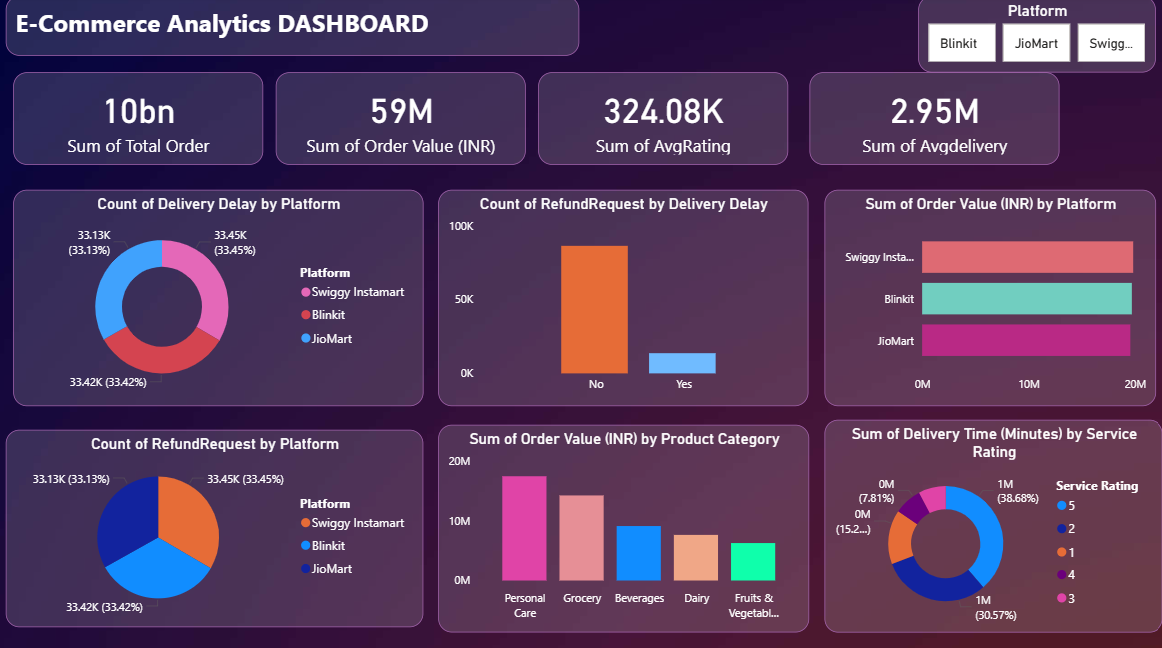

The dashboard page shown, as its layout file describes it:
{"tool":"powerbi","page":{"name":"Page 1","canvas":[1280,720],"ordinal":0},"visuals":[{"type":"textbox","box":[9.6,0,629.8,65.9],"z":0},{"type":"barChart","fields":{"Y":["Sum(Ecommerce_Delivery_Analytics_New.Order Value (INR))"],"Category":["Ecommerce_Delivery_Analytics_New.Platform"]},"box":[908.4,212.7,363.6,237.4],"z":1000},{"type":"donutChart","fields":{"Category":["Ecommerce_Delivery_Analytics_New.Service Rating"],"Y":["Sum(Ecommerce_Delivery_Analytics_New.Delivery Time (Minutes))"]},"box":[908.4,465.2,371.9,233.3],"z":2000},{"type":"columnChart","fields":{"Y":["CountNonNull(Ecommerce_Delivery_Analytics_New.RefundCount)"],"Category":["Ecommerce_Delivery_Analytics_New.Delivery Delay"]},"box":[484.4,212.7,406.2,237.4],"z":3000},{"type":"columnChart","fields":{"Category":["Ecommerce_Delivery_Analytics_New.Product Category"],"Y":["Sum(Ecommerce_Delivery_Analytics_New.Order Value (INR))"]},"box":[484.4,470.7,407.5,227.8],"z":4000},{"type":"pieChart","fields":{"Category":["Ecommerce_Delivery_Analytics_New.Platform"],"Y":["CountNonNull(Ecommerce_Delivery_Analytics_New.RefundRequest)"]},"box":[9.6,476.2,458.3,216.8],"z":5000},{"type":"donutChart","fields":{"Category":["Ecommerce_Delivery_Analytics_New.Platform"],"Y":["CountNonNull(Ecommerce_Delivery_Analytics_New.Delivery Delay)"]},"box":[17.8,212.7,450.1,237.4],"z":6000},{"type":"card","fields":{"Values":["Sum(Ecommerce_Delivery_Analytics_New.TO)"]},"box":[17.8,83.7,274.4,101.5],"z":7000},{"type":"card","fields":{"Values":["Sum(Ecommerce_Delivery_Analytics_New.Order Value (INR))"]},"box":[306,83.7,274.4,101.5],"z":8000},{"type":"card","fields":{"Values":["Sum(Ecommerce_Delivery_Analytics_New.AvgRating)"]},"box":[594.2,83.7,274.4,101.5],"z":9000},{"type":"card","fields":{"Values":["Sum(Ecommerce_Delivery_Analytics_New.Avgdelivery)"]},"box":[891.9,83.7,274.4,101.5],"z":10000},{"type":"advancedSlicerVisual","fields":{"Values":["Ecommerce_Delivery_Analytics_New.Platform"]},"box":[1011.3,0,260.7,83.7],"z":11000}]}

Visuals, with their boxes in screenshot pixels (x1, y1, x2, y2), scaled from the page's 1280x720 canvas onto the 1162x648 screenshot:
textbox: region(9, 0, 580, 59)
barChart - Sum(Ecommerce_Delivery_Analytics_New.Order Value (INR)) x Ecommerce_Delivery_Analytics_New.Platform: region(825, 191, 1155, 405)
donutChart - Ecommerce_Delivery_Analytics_New.Service Rating x Sum(Ecommerce_Delivery_Analytics_New.Delivery Time (Minutes)): region(825, 419, 1161, 629)
columnChart - CountNonNull(Ecommerce_Delivery_Analytics_New.RefundCount) x Ecommerce_Delivery_Analytics_New.Delivery Delay: region(440, 191, 808, 405)
columnChart - Ecommerce_Delivery_Analytics_New.Product Category x Sum(Ecommerce_Delivery_Analytics_New.Order Value (INR)): region(440, 424, 810, 629)
pieChart - Ecommerce_Delivery_Analytics_New.Platform x CountNonNull(Ecommerce_Delivery_Analytics_New.RefundRequest): region(9, 429, 425, 624)
donutChart - Ecommerce_Delivery_Analytics_New.Platform x CountNonNull(Ecommerce_Delivery_Analytics_New.Delivery Delay): region(16, 191, 425, 405)
card - Sum(Ecommerce_Delivery_Analytics_New.TO): region(16, 75, 265, 167)
card - Sum(Ecommerce_Delivery_Analytics_New.Order Value (INR)): region(278, 75, 527, 167)
card - Sum(Ecommerce_Delivery_Analytics_New.AvgRating): region(539, 75, 789, 167)
card - Sum(Ecommerce_Delivery_Analytics_New.Avgdelivery): region(810, 75, 1059, 167)
advancedSlicerVisual - Ecommerce_Delivery_Analytics_New.Platform: region(918, 0, 1155, 75)
